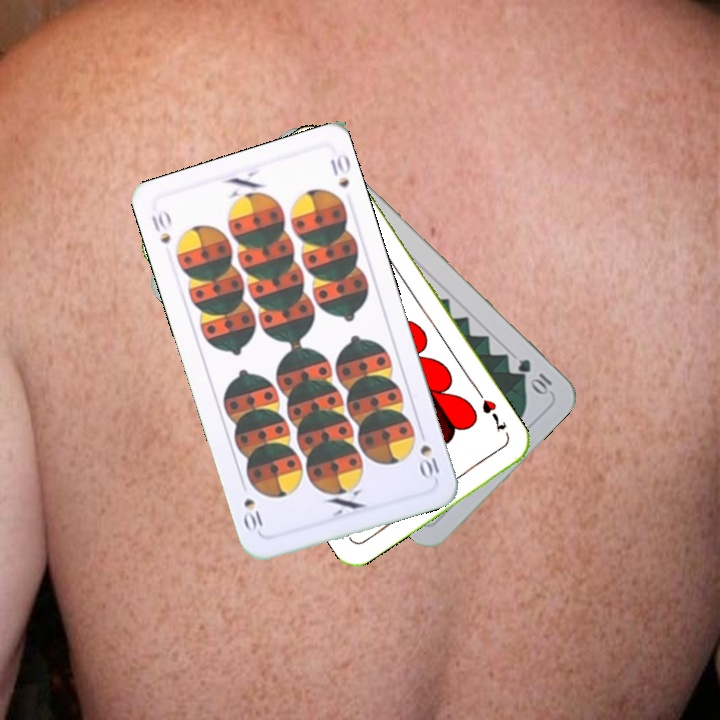G10: (513, 354, 555, 397)
H7: (474, 387, 509, 436)
S10: (415, 424, 442, 482), (147, 206, 174, 248)
